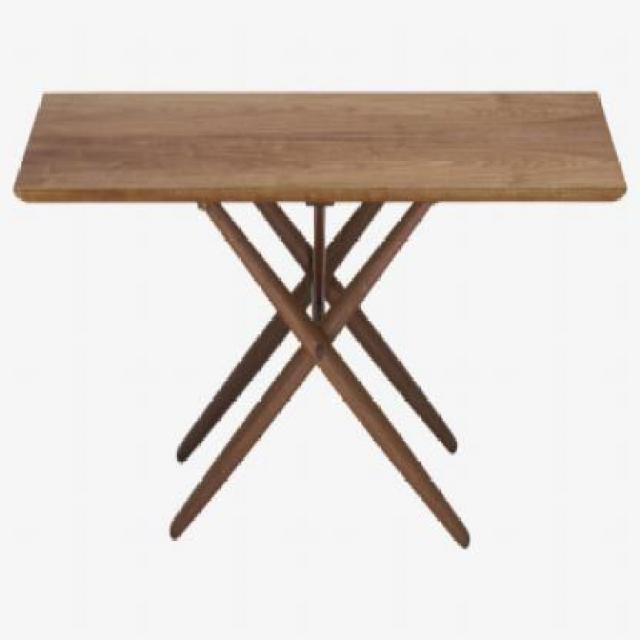table: (11, 87, 622, 551)
